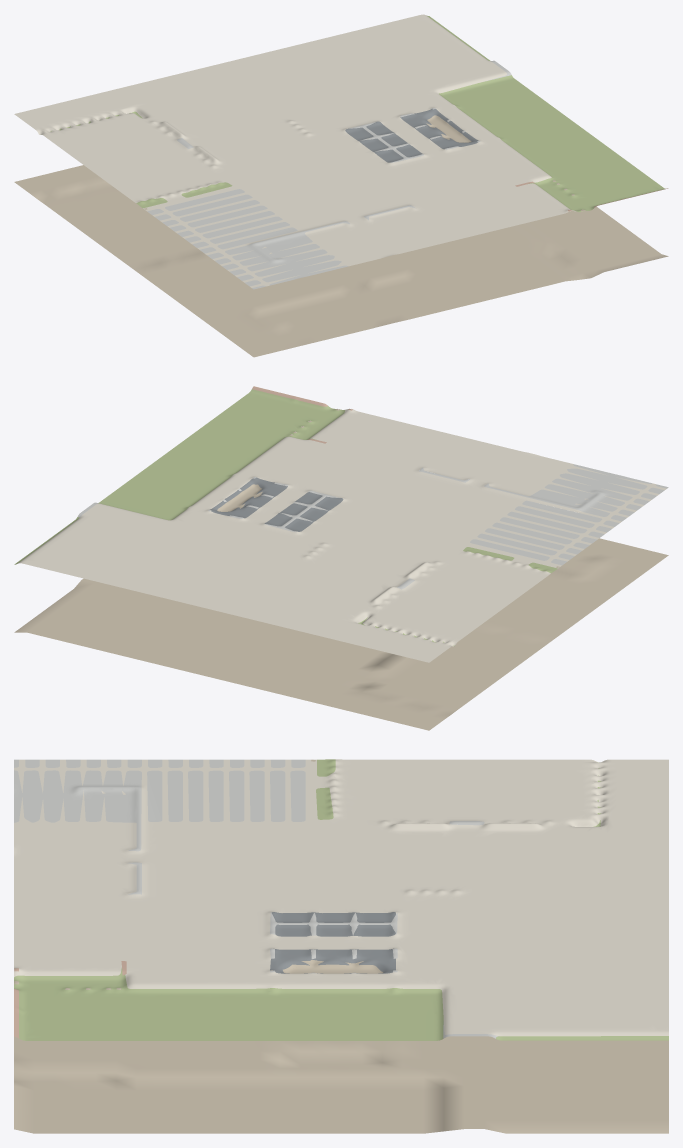
The picture shows the model from 3 angles, top to bottom: view 1: azimuth 30°, elevation 25°; view 2: azimuth 150°, elevation 25°; view 3: azimuth 270°, elevation 25°; orthographic projection. The views are drawn at different scales.
Parts seen in each view (by area): view 1: s_0_2__paving, s_0_2__soil, s_0_2__grass, s_0_2__stone_paving, s_0_2__asphalt; view 2: s_0_2__paving, s_0_2__soil, s_0_2__grass, s_0_2__stone_paving, s_0_2__asphalt; view 3: s_0_2__paving, s_0_2__soil, s_0_2__grass, s_0_2__stone_paving, s_0_2__asphalt.
Boxes of the visible parts, x1=… form: s_0_2__paving: x1=14, y1=14, x2=576, y2=287; s_0_2__soil: x1=14, y1=115, x2=668, y2=357; s_0_2__grass: x1=41, y1=15, x2=665, y2=212; s_0_2__stone_paving: x1=147, y1=60, x2=511, y2=289; s_0_2__asphalt: x1=345, y1=108, x2=478, y2=162; s_0_2__paving: x1=18, y1=409, x2=666, y2=662; s_0_2__soil: x1=14, y1=409, x2=668, y2=730; s_0_2__grass: x1=14, y1=389, x2=557, y2=646; s_0_2__stone_paving: x1=77, y1=464, x2=668, y2=589; s_0_2__asphalt: x1=210, y1=477, x2=343, y2=531; s_0_2__paving: x1=14, y1=759, x2=668, y2=1036; s_0_2__soil: x1=14, y1=759, x2=668, y2=1133; s_0_2__grass: x1=14, y1=759, x2=668, y2=1040; s_0_2__stone_paving: x1=14, y1=759, x2=499, y2=1038; s_0_2__asphalt: x1=270, y1=912, x2=395, y2=973.
Size of the model in its own units: 128 by 21.87 by 128.
